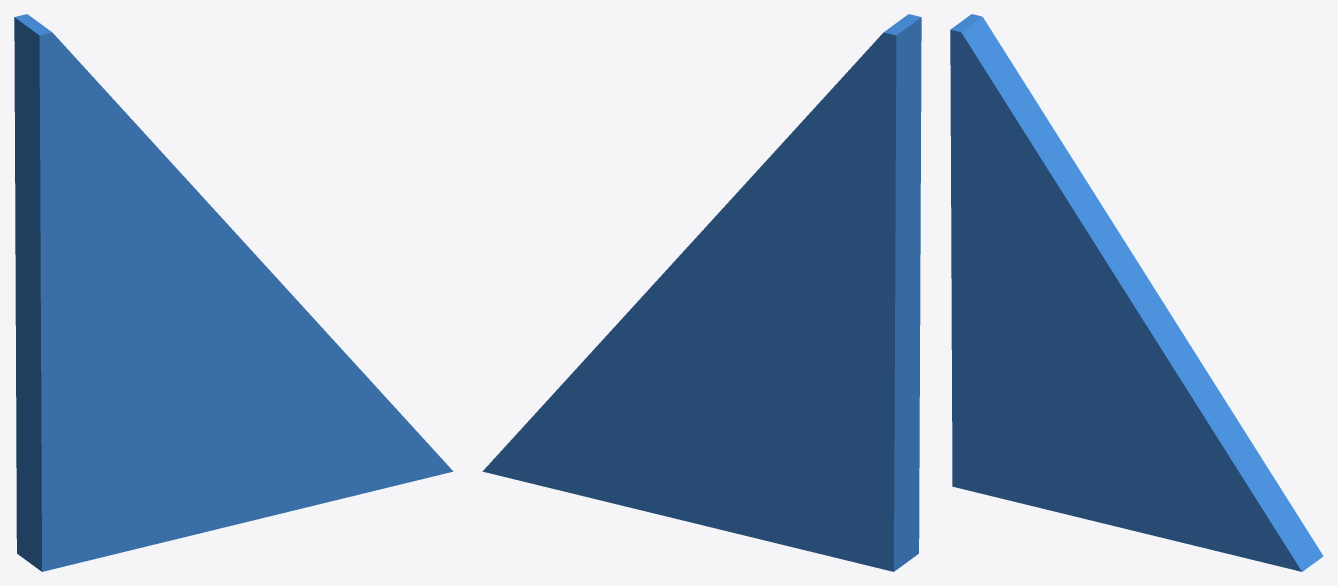
The model's file is Collision_Roof_Front_Brick8_Half_R.fbx.
3 renders of one model, left to right at view 1: azimuth 30°, elevation 25°; view 2: azimuth 150°, elevation 25°; view 3: azimuth 330°, elevation 25°, orthographic. The views are drawn at different scales.
Visible parts, largest first — view 1: UCX_Roof_Front_Brick8_Half_R_1; view 2: UCX_Roof_Front_Brick8_Half_R_1; view 3: UCX_Roof_Front_Brick8_Half_R_1.
Boxes of the visible parts, x1,y1,x2,y2 form: UCX_Roof_Front_Brick8_Half_R_1: [14, 14, 453, 571]; UCX_Roof_Front_Brick8_Half_R_1: [482, 14, 921, 571]; UCX_Roof_Front_Brick8_Half_R_1: [950, 14, 1323, 571].
Bounding box in the file's own units: 444 × 551 × 46.83.
